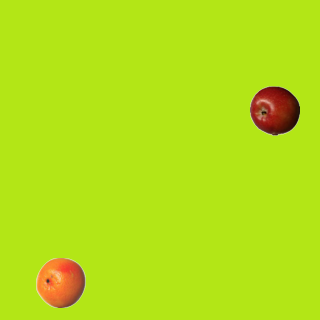Apple Braeburn: (249, 85, 299, 135)
Grapefruit Pink: (35, 257, 85, 307)
